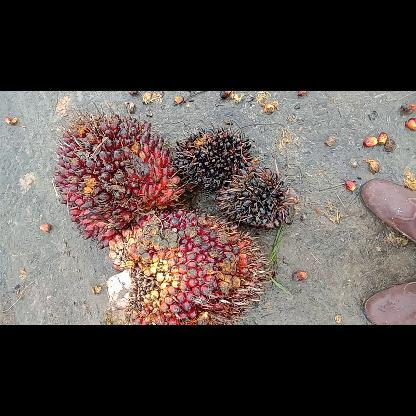TBS abnormal: (172, 123, 258, 193), (216, 165, 302, 231)
TBS masak: (106, 206, 278, 324), (52, 102, 188, 250)
